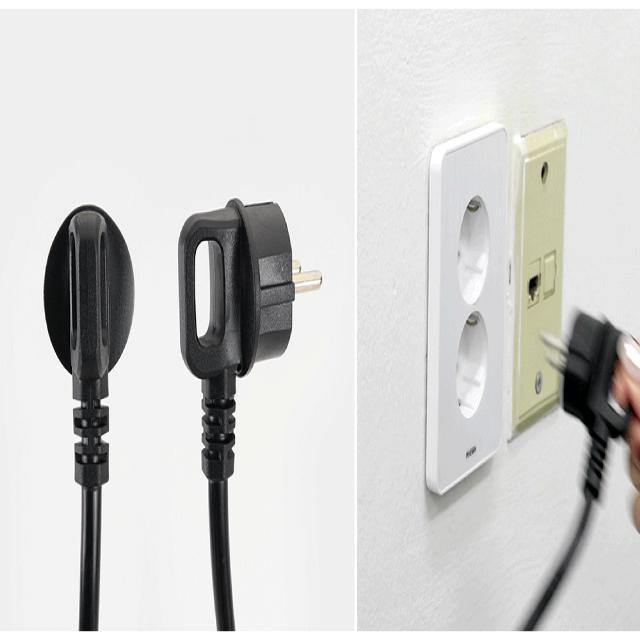typeb: (431, 131, 514, 505)
